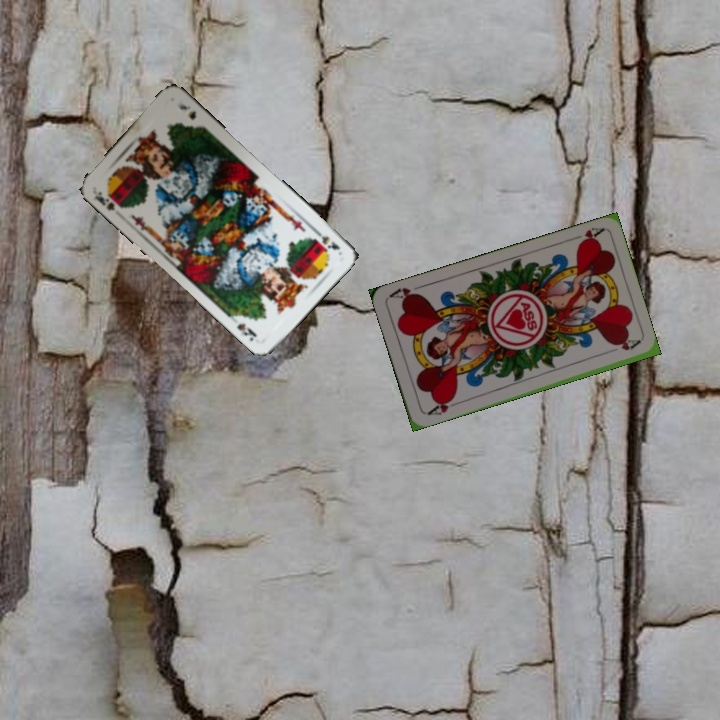HA: (566, 223, 606, 248), (423, 393, 457, 418)
SK: (90, 187, 127, 213), (309, 225, 343, 252)
